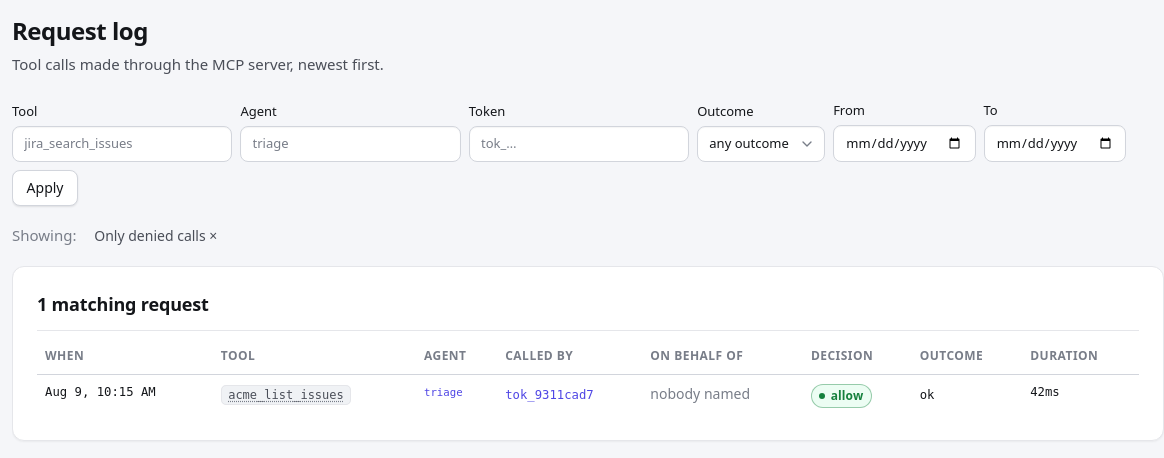
Test case: the filters come from the URL › writes the typed filters into the URL, and keeps the ones it does not offer
This screenshot has width=1164, height=458.
Check: the button "acme_list_issues" is shown, box x1=228 y1=386 x2=344 y2=405
Type "acme_list_issues" into the field labelled "Tool".
click(122, 144); type("acme_list_issues")  # box x1=12 y1=126 x2=232 y2=162
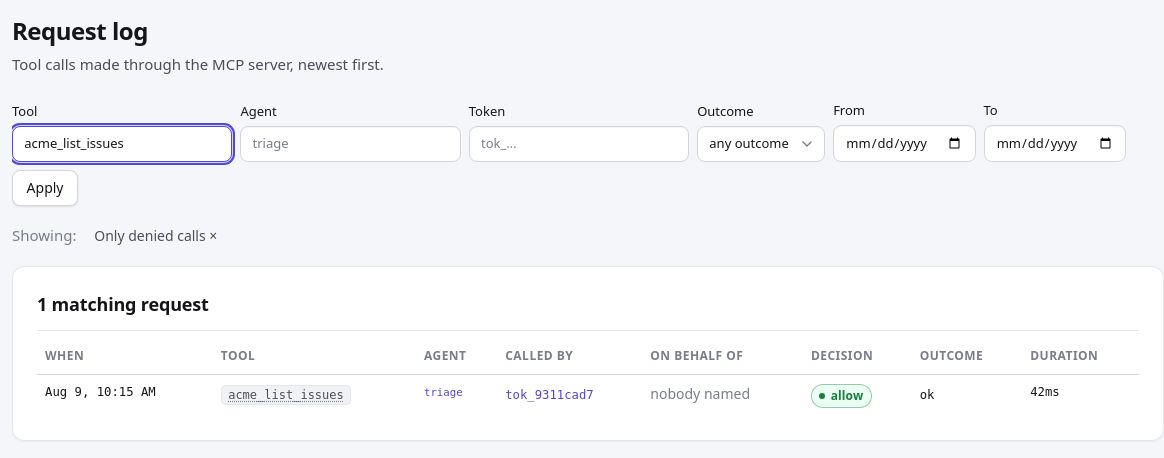
Type "tok_9311cad7" into the field labelled "Token".
click(579, 144); type("tok_9311cad7")  # box x1=469 y1=126 x2=689 y2=162
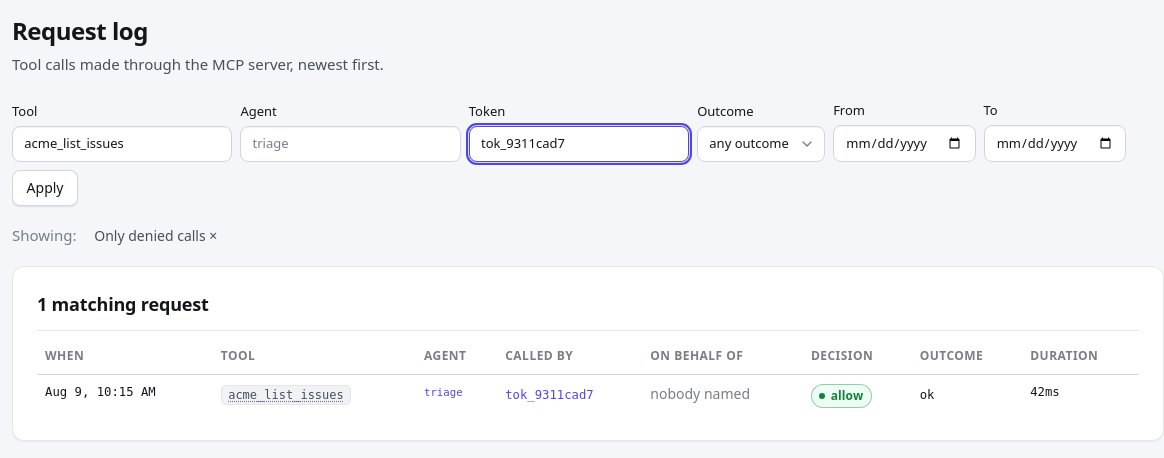
Select "not recorded" in the dropdown labelled "Outcome" at point(761, 144), box x1=697 y1=126 x2=825 y2=162
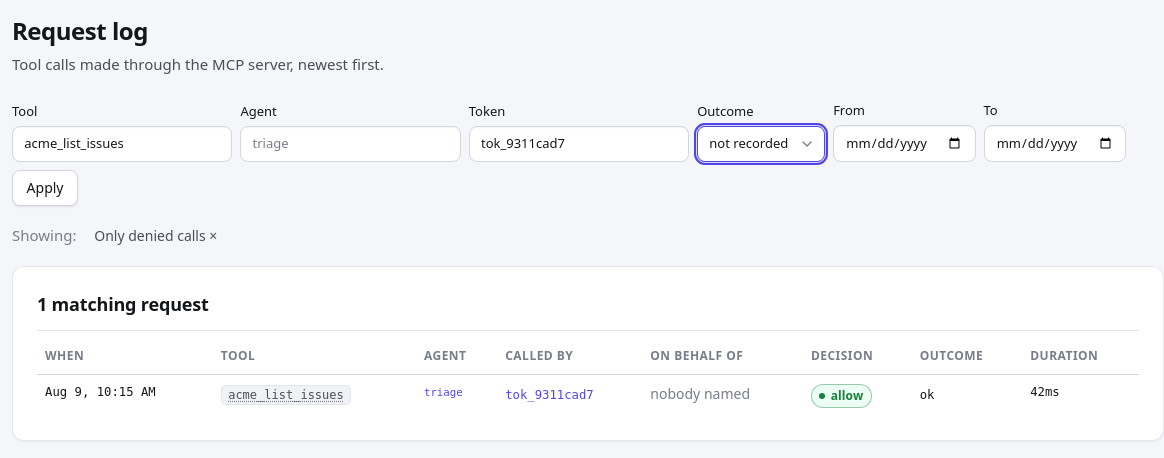
Click the button "Apply".
click(45, 188)  # box x1=12 y1=170 x2=78 y2=206
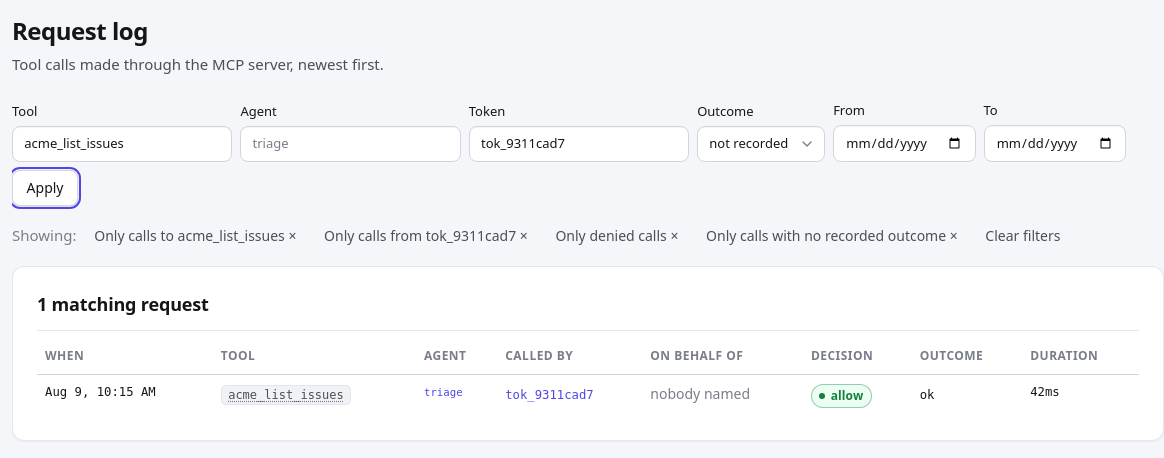
Check: the button "Only denied calls ×" is shown, box x1=546 y1=218 x2=688 y2=254
Check: the button "Only calls to acme_list_issues ×" is shown, box x1=84 y1=218 x2=306 y2=254
Check: the button "Only calls from tok_9311cad7 ×" is shown, box x1=314 y1=218 x2=538 y2=254
